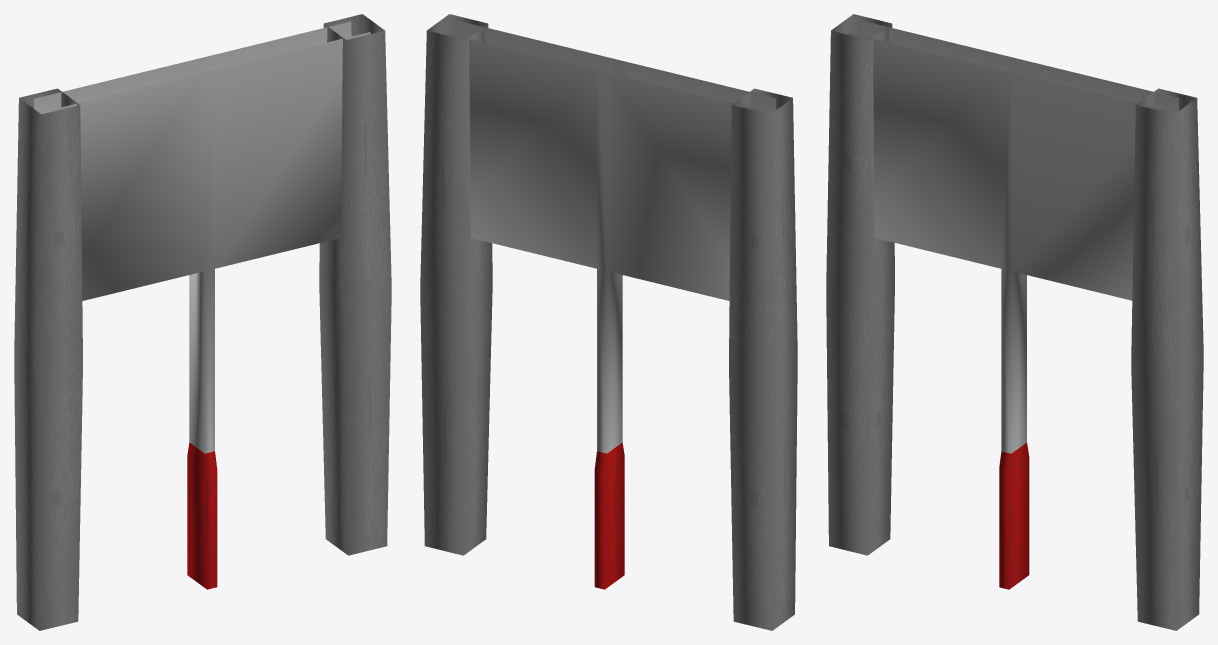
File: Batente De Porta.fbx
The picture shows the model from 3 angles, left to right: view 1: azimuth 30°, elevation 25°; view 2: azimuth 150°, elevation 25°; view 3: azimuth 330°, elevation 25°; orthographic projection.
Visible parts, largest first — view 1: Batente De Porta; view 2: Batente De Porta; view 3: Batente De Porta.
Part boxes in pixels (x1,y1,x2,y2): Batente De Porta: [14, 14, 391, 630]; Batente De Porta: [420, 14, 797, 630]; Batente De Porta: [826, 14, 1203, 630].
Size of the model in its own units: 284 by 400 by 37.53.
